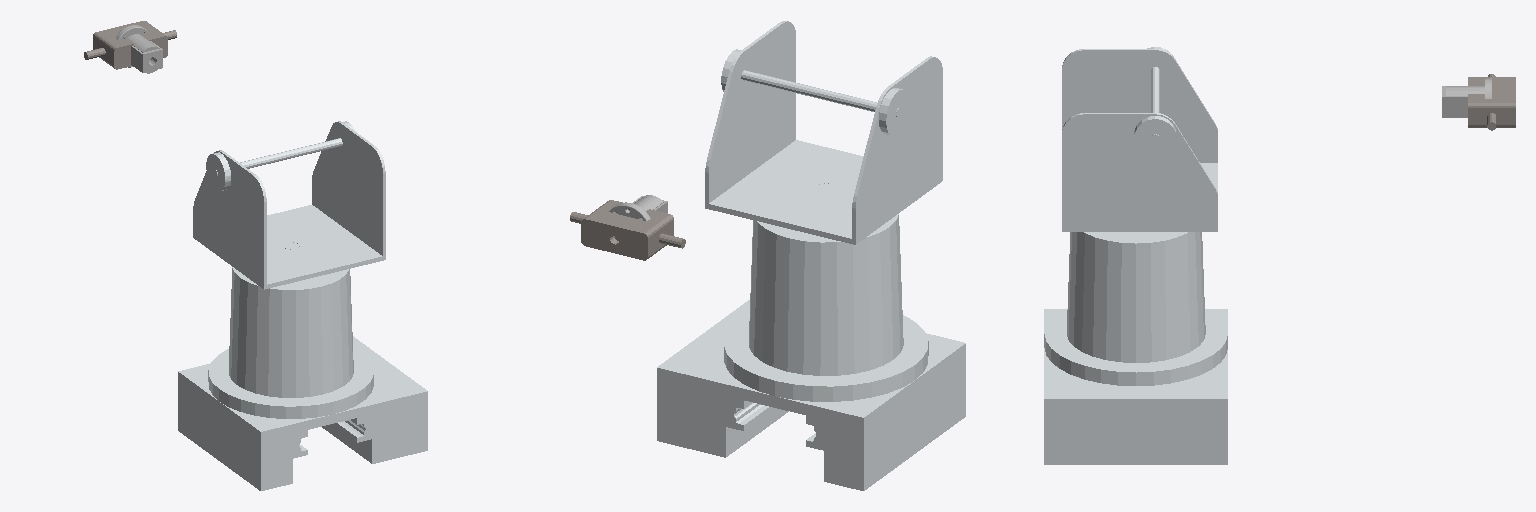
The robot description file, URDF, robot "scorbot-er-v-plus":
<?xml version="1.0" encoding="utf-8"?>
<!-- This URDF was automatically created by SolidWorks to URDF Exporter! Originally created by
[author] ([email redacted]) 
     Commit Version: 1.6.0-4-g7f85cfe  Build Version: 1.6.7995.38578
     For more information, please see http://wiki.ros.org/sw_urdf_exporter -->
<robot
  name="scorbot-er-v-plus">
  <link name="world">
  </link>
  <link
    name="base_link">
    <inertial>
      <origin
        xyz="6.9389E-18 0.65 0.041357"
        rpy="0 0 0" />
      <mass
        value="24.144" />
      <inertia
        ixx="3.4129"
        ixy="-2.7635E-18"
        ixz="1.5076E-18"
        iyy="0.028252"
        iyz="3.1049E-17"
        izz="3.416" />
    </inertial>
    <visual>
      <origin
        xyz="0 0 0"
        rpy="0 0 0" />
      <geometry>
        <mesh
          filename="package://scorbot_er_v/meshes/slide_base_link.STL" />
      </geometry>
      <material
        name="">
        <color
          rgba="0.89804 0.91765 0.92941 1" />
      </material>
    </visual>
    <collision>
      <origin
        xyz="0 0 0"
        rpy="0 0 0" />
      <geometry>
        <mesh
          filename="package://scorbot_er_v/meshes/slide_base_link.STL" />
      </geometry>
    </collision>
  </link>
  <joint name="world_joint" type="fixed">
    <parent link="world" />
    <child link="base_link" />
  </joint>
  <link
    name="slide_base_link">
    <inertial>
      <origin
        xyz="-0.012271 0.012815 0"
        rpy="0 0 0" />
      <mass
        value="5.7681" />
      <inertia
        ixx="0.071205"
        ixy="-0.0043325"
        ixz="6.0569E-17"
        iyy="0.070116"
        iyz="2.4488E-17"
        izz="0.08178" />
    </inertial>
    <visual>
      <origin
        xyz="0 0 0"
        rpy="0 0 0" />
      <geometry>
        <mesh
          filename="package://scorbot_er_v/meshes/base_link.STL" />
      </geometry>
      <material
        name="">
        <color
          rgba="0.89804 0.91765 0.92941 1" />
      </material>
    </visual>
    <collision>
      <origin
        xyz="0 0 0"
        rpy="0 0 0" />
      <geometry>
        <mesh
          filename="package://scorbot_er_v/meshes/base_link.STL" />
      </geometry>
    </collision>
  </link>
  <joint
    name="slide_base_joint"
    type="prismatic">
    <origin
      xyz="0 0.17 0.096"
      rpy="1.5708 0 3.1416" />
    <parent
      link="base_link" />
    <child
      link="slide_base_link" />
    <axis
      xyz="0 0 1" />
    <limit
      lower="0"
      upper="0.9"
      effort="0"
      velocity="0" />
  </joint>
  <link
    name="body_link">
    <inertial>
      <origin
        xyz="-0.0024124 0.0019378 -0.070016"
        rpy="0 0 0" />
      <mass
        value="4.1847" />
      <inertia
        ixx="0.029582"
        ixy="0.00098745"
        ixz="0.0042693"
        iyy="0.027732"
        iyz="-0.00082029"
        izz="0.03323" />
    </inertial>
    <visual>
      <origin
        xyz="0 0 0"
        rpy="3.1416 0 0" />
      <geometry>
        <mesh
          filename="package://scorbot_er_v/meshes/body_link.STL" />
      </geometry>
      <material
        name="">
        <color
          rgba="0.89804 0.91765 0.92941 1" />
      </material>
    </visual>
    <collision>
      <origin
        xyz="0 0 0"
        rpy="0 0 0" />
      <geometry>
        <mesh
          filename="package://scorbot_er_v/meshes/body_link.STL" />
      </geometry>
    </collision>
  </link>
  <joint
    name="body_joint"
    type="continuous">
    <origin
      xyz="0 0.354 0"
      rpy="1.5708 -1.5708 0" />
    <parent
      link="slide_base_link" />
    <child
      link="body_link" />
    <axis
      xyz="0 0 1" />
    <dynamics damping="0.7" />
  </joint>
  <link
    name="shoulder_link">
    <inertial>
      <origin
        xyz="0.10172 0.0057759 -4.0246E-16"
        rpy="0 0 0" />
      <mass
        value="2.1816" />
      <inertia
        ixx="0.011823"
        ixy="-3.4979E-05"
        ixz="1.0635E-17"
        iyy="0.028073"
        iyz="1.3636E-17"
        izz="0.017919" />
    </inertial>
    <visual>
      <origin
        xyz="0 0 0"
        rpy="3.1416 0 0" />
      <geometry>
        <mesh
          filename="package://scorbot_er_v/meshes/shoulder_link.STL" />
      </geometry>
      <material
        name="">
        <color
          rgba="0.64706 0.61961 0.58824 1" />
      </material>
    </visual>
    <collision>
      <origin
        xyz="0 0 0"
        rpy="0 0 0" />
      <geometry>
        <mesh
          filename="package://scorbot_er_v/meshes/shoulder_link.STL" />
      </geometry>
    </collision>
  </link>
  <joint
    name="shoulder_joint"
    type="continuous">
    <origin
      xyz="0.025 0 0"
      rpy="1.5708 0 0" />
    <parent
      link="body_link" />
    <child
      link="shoulder_link" />
    <axis
      xyz="0 0 -1" />
    <dynamics damping="0.7" />
  </joint>
  <link
    name="elbow_link">
    <inertial>
      <origin
        xyz="0.1333 0.0044924 1.249E-16"
        rpy="0 0 0" />
      <mass
        value="1.3299" />
      <inertia
        ixx="0.0056088"
        ixy="0.00042004"
        ixz="-1.9107E-17"
        iyy="0.014028"
        iyz="5.212E-20"
        izz="0.009294" />
    </inertial>
    <visual>
      <origin
        xyz="0 0 0"
        rpy="3.1416 0 0" />
      <geometry>
        <mesh
          filename="package://scorbot_er_v/meshes/elbow_link.STL" />
      </geometry>
      <material
        name="">
        <color
          rgba="0.64706 0.61961 0.58824 1" />
      </material>
    </visual>
    <collision>
      <origin
        xyz="0 0 0"
        rpy="0 0 0" />
      <geometry>
        <mesh
          filename="package://scorbot_er_v/meshes/elbow_link.STL" />
      </geometry>
    </collision>
  </link>
  <joint
    name="elbow_joint"
    type="continuous">
    <origin
      xyz="0.22 0 0"
      rpy="0 0 0" />
    <parent
      link="shoulder_link" />
    <child
      link="elbow_link" />
    <axis
      xyz="0 0 -1" />
    <dynamics damping="0.7" />
  </joint>
  <link
    name="wrist_link">
    <inertial>
      <origin
        xyz="5.5511E-17 0.0016897 2.7756E-17"
        rpy="0 0 0" />
      <mass
        value="0.11142" />
      <inertia
        ixx="0.00015149"
        ixy="-3.4232E-21"
        ixz="4.5808E-20"
        iyy="0.00012081"
        iyz="3.5338E-20"
        izz="6.0971E-05" />
    </inertial>
    <visual>
      <origin
        xyz="0 0 0"
        rpy="0 0 0" />
      <geometry>
        <mesh
          filename="package://scorbot_er_v/meshes/wrist_link.STL" />
      </geometry>
      <material
        name="">
        <color
          rgba="0.64314 0.61569 0.6 1" />
      </material>
    </visual>
    <collision>
      <origin
        xyz="0 0 0"
        rpy="0 0 0" />
      <geometry>
        <mesh
          filename="package://scorbot_er_v/meshes/wrist_link.STL" />
      </geometry>
    </collision>
  </link>
  <joint
    name="wrist_joint"
    type="continuous">
    <origin
      xyz="0.22 0 0"
      rpy="0 0 1.5708" />
    <parent
      link="elbow_link" />
    <child
      link="wrist_link" />
    <axis
      xyz="0 0 -1" />
    <dynamics damping="0.7" />
  </joint>
  <link
    name="roll_wrist_link">
    <inertial>
      <origin
        xyz="-0.00011221 -0.0098074 0.096196"
        rpy="0 0 0" />
      <mass
        value="0.3891" />
      <inertia
        ixx="0.0013614"
        ixy="0.0"
        ixz="0.0"
        iyy="0.00015489"
        iyz="0.0"
        izz="0.0010547" />
    </inertial>
    <visual>
      <origin
        xyz="0 0 0"
        rpy="0 0 3.1416" />
      <geometry>
        <mesh
          filename="package://scorbot_er_v/meshes/roll_wrist_link.STL" />
      </geometry>
      <material
        name="">
        <color
          rgba="0.75294 0.75294 0.75294 0.5" />
      </material>
    </visual>
    <collision>
      <origin
        xyz="0 0 0"
        rpy="0 0 0" />
      <geometry>
        <mesh
          filename="package://scorbot_er_v/meshes/roll_wrist_link.STL" />
      </geometry>
    </collision>
  </link>
  <joint
    name="roll_wrist_joint"
    type="continuous">
    <origin
      xyz="0 0 0"
      rpy="1.5708 0 0" />
    <parent
      link="wrist_link" />
    <child
      link="roll_wrist_link" />
    <axis
      xyz="0 0 1" />
    <dynamics damping="0.7" />
  </joint>
  <link
    name="extruder_link">
    <inertial>
      <origin
        xyz="0.0001115 0 -0.004905"
        rpy="0 0 0" />
      <mass
        value="0.00058199" />
      <inertia
        ixx="0.001"
        ixy="0.0"
        ixz="0.0"
        iyy="0.01"
        iyz="0.0"
        izz="0.01" />
    </inertial>
    <visual>
      <origin
        xyz="0 0 0"
        rpy="0 0 0" />
      <geometry>
        <mesh
          filename="package://scorbot_er_v/meshes/extruder_link.STL" />
      </geometry>
      <material
        name="">
        <color
          rgba="1 0 0 1" />
      </material>
    </visual>
    <collision>
      <origin
        xyz="0 0 0"
        rpy="0 0 0" />
      <geometry>
        <mesh
          filename="package://scorbot_er_v/meshes/extruder_link.STL" />
      </geometry>
    </collision>
  </link>
  <joint
    name="extruder_screw_joint"
    type="continuous">
    <origin
      xyz="0 0.011037 0.126"
      rpy="1.5708 -1.5708 0" />
    <parent
      link="roll_wrist_link" />
    <child
      link="extruder_link" />
    <axis
      xyz="0 0 1" />
    <dynamics damping="0.7" />
  </joint>

  <ros2_control name="GazeboSystem" type="system">

    <hardware>
      <plugin>gazebo_ros2_control/GazeboSystem</plugin>
    </hardware>

    <joint name="slide_base_joint">
      <command_interface name="position" />
      <state_interface name="position">
        <param name="initial_value">0.0</param>
      </state_interface>
      <state_interface name="velocity" />
    </joint>

    <joint name="body_joint">
      <command_interface name="position" />
      <state_interface name="position">
        <param name="initial_value">0.0</param>
      </state_interface>
      <state_interface name="velocity" />
    </joint>

    <joint name="shoulder_joint">
      <command_interface name="position" />
      <state_interface name="position">
        <param name="initial_value">0.0</param>
      </state_interface>
      <state_interface name="velocity" />
    </joint>

    <joint name="elbow_joint">
      <command_interface name="position" />
      <state_interface name="position">
        <param name="initial_value">0.0</param>
      </state_interface>
      <state_interface name="velocity" />
    </joint>

    <joint name="wrist_joint">
      <command_interface name="position" />
      <state_interface name="position">
        <param name="initial_value">0.0</param>
      </state_interface>
      <state_interface name="velocity" />
    </joint>

    <joint name="roll_wrist_joint">
      <command_interface name="position" />
      <state_interface name="position">
        <param name="initial_value">0.0</param>
      </state_interface>
      <state_interface name="velocity" />
    </joint>

    <joint name="extruder_screw_joint">
      <command_interface name="position" />
      <state_interface name="position">
        <param name="initial_value">0.0</param>
      </state_interface>
      <state_interface name="velocity" />
    </joint>

  </ros2_control>

  <gazebo>
    <plugin name="gazebo_ros2_control" filename="libgazebo_ros2_control.so">
      <parameters>[local-path]/scorbot_ws/src/scorbot_er_v/config/scorbot_er_v_controllers.yaml</parameters>
    </plugin>
  </gazebo>

</robot>

--- Facts derived from the render (not from the file) ---
3 views of the same robot in one strip: view 1: azimuth 30°, elevation 25°; view 2: azimuth 150°, elevation 25°; view 3: azimuth 270°, elevation 25° (orthographic).
Robot: scorbot-er-v-plus — 9 links, 8 joints (6 continuous, 1 prismatic, 1 fixed); root link world; default pose: every joint at zero.
Visible links, largest first — view 1: slide_base_link, body_link, wrist_link, roll_wrist_link; view 2: slide_base_link, body_link, wrist_link, roll_wrist_link; view 3: slide_base_link, body_link, wrist_link, roll_wrist_link.
Link boxes in pixels (box(x1,y1,x2,y2)): slide_base_link: box(178, 242, 427, 490); body_link: box(193, 121, 385, 289); wrist_link: box(84, 21, 176, 69); roll_wrist_link: box(116, 25, 162, 73); slide_base_link: box(657, 183, 965, 490); body_link: box(705, 21, 942, 244); wrist_link: box(570, 200, 685, 260); roll_wrist_link: box(609, 195, 667, 220); slide_base_link: box(1044, 232, 1227, 464); body_link: box(1062, 47, 1217, 231); wrist_link: box(1468, 74, 1515, 130); roll_wrist_link: box(1442, 78, 1491, 117).
Size in the robot's own frame: 0.28 by 0.616 by 0.4805 metres.
4 mesh visuals loaded from 8 distinct referenced files (4 binary STL); not drawn: 4 (reference not matched to a file when rendering).
